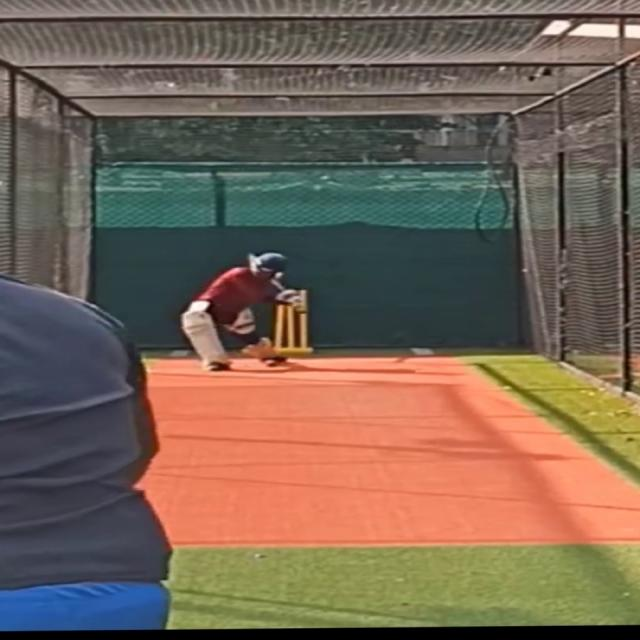stump: (270, 306, 312, 356)
